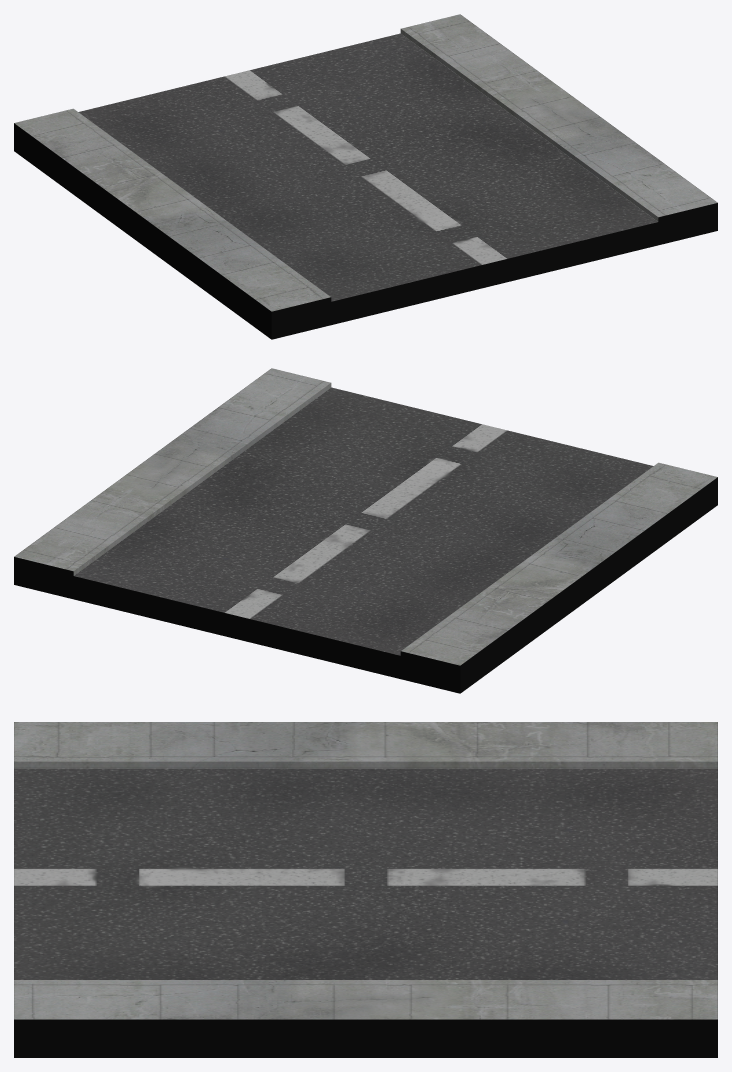
File: street_straightOBJ.fbx
3 views of the same model, one above another, from view 1: azimuth 30°, elevation 25°; view 2: azimuth 150°, elevation 25°; view 3: azimuth 270°, elevation 25° (orthographic). The views are drawn at different scales.
Parts seen in each view (by area): view 1: straight; view 2: straight; view 3: straight.
Part boxes in pixels (box(x1,y1,x2,y2)): straight: box(14, 14, 717, 339); straight: box(14, 368, 717, 693); straight: box(14, 722, 717, 1057).
Size of the model in its own units: 10 by 0.6 by 10.
